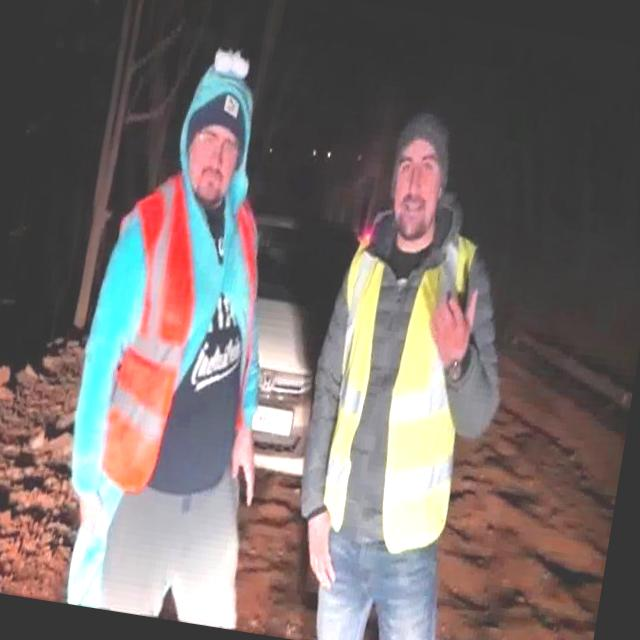vest: (306, 215, 494, 560), (91, 169, 278, 512)
